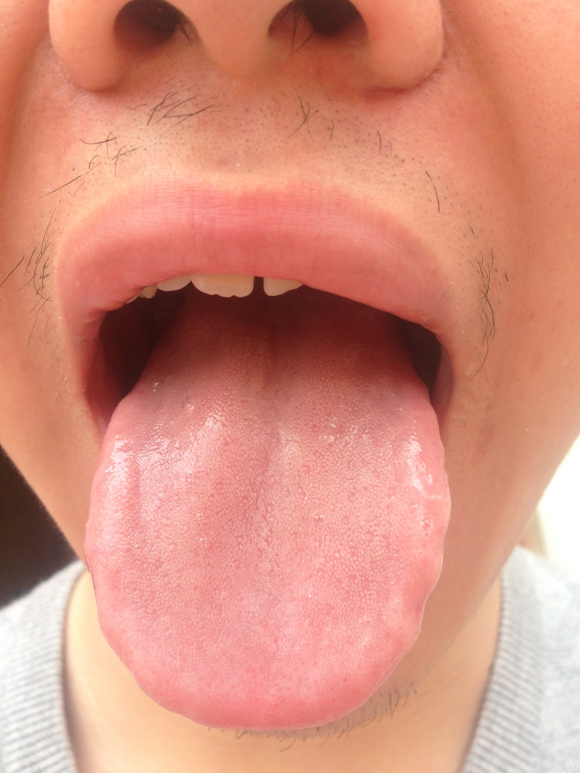baitaishe: (86, 286, 449, 728)
